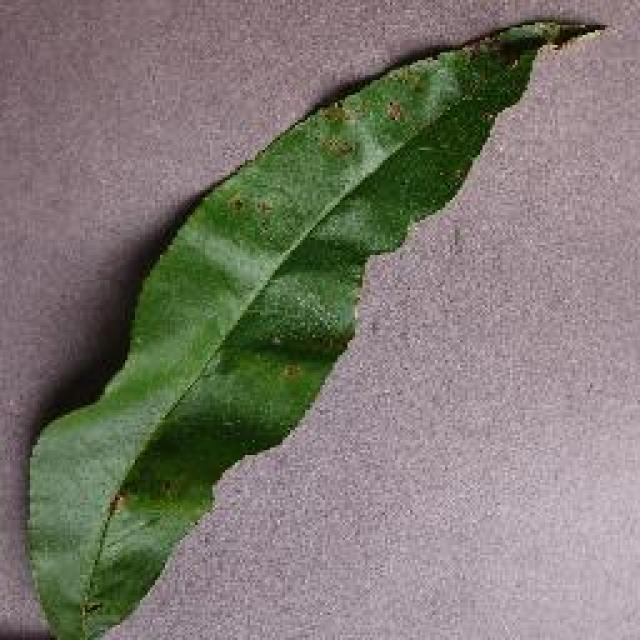Peach_Bacterial_Spot: (292, 32, 468, 313)
